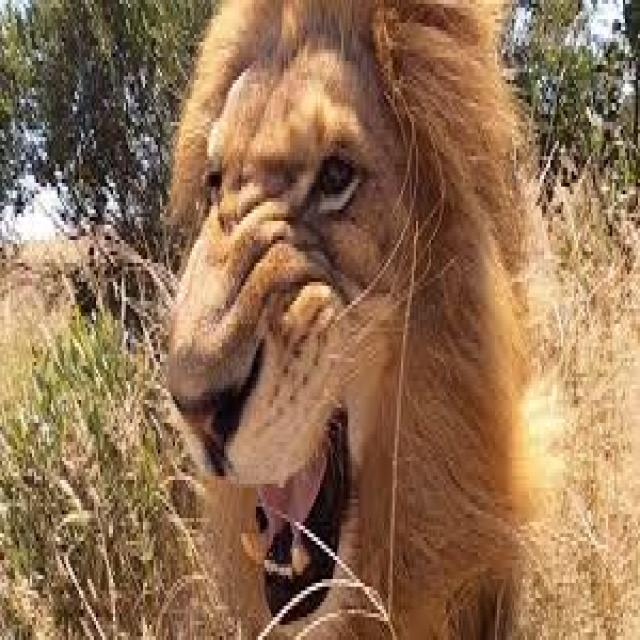Lion: (160, 15, 526, 636)
